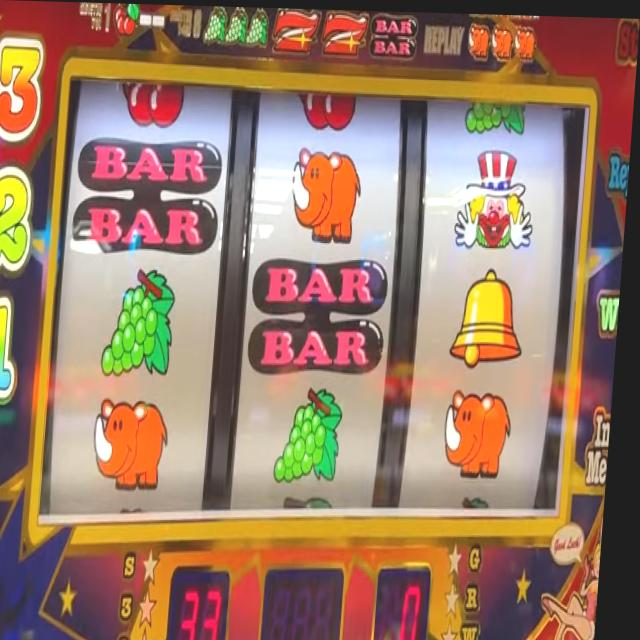bar: (73, 135, 228, 252), (250, 250, 395, 374), (368, 11, 420, 60)
bell: (454, 261, 532, 365)
cherry: (119, 76, 188, 130), (295, 85, 360, 131), (112, 3, 140, 36)
clown: (455, 142, 541, 254)
display: (46, 70, 593, 515)
elephant: (291, 142, 367, 246), (97, 396, 177, 492), (448, 384, 519, 476), (468, 22, 492, 58), (491, 21, 515, 57), (513, 22, 537, 58)
grape: (104, 261, 183, 380), (279, 383, 351, 484), (465, 98, 530, 136), (202, 5, 227, 46), (246, 7, 269, 47), (225, 5, 248, 44)
z: (272, 6, 320, 53), (322, 8, 369, 55)
